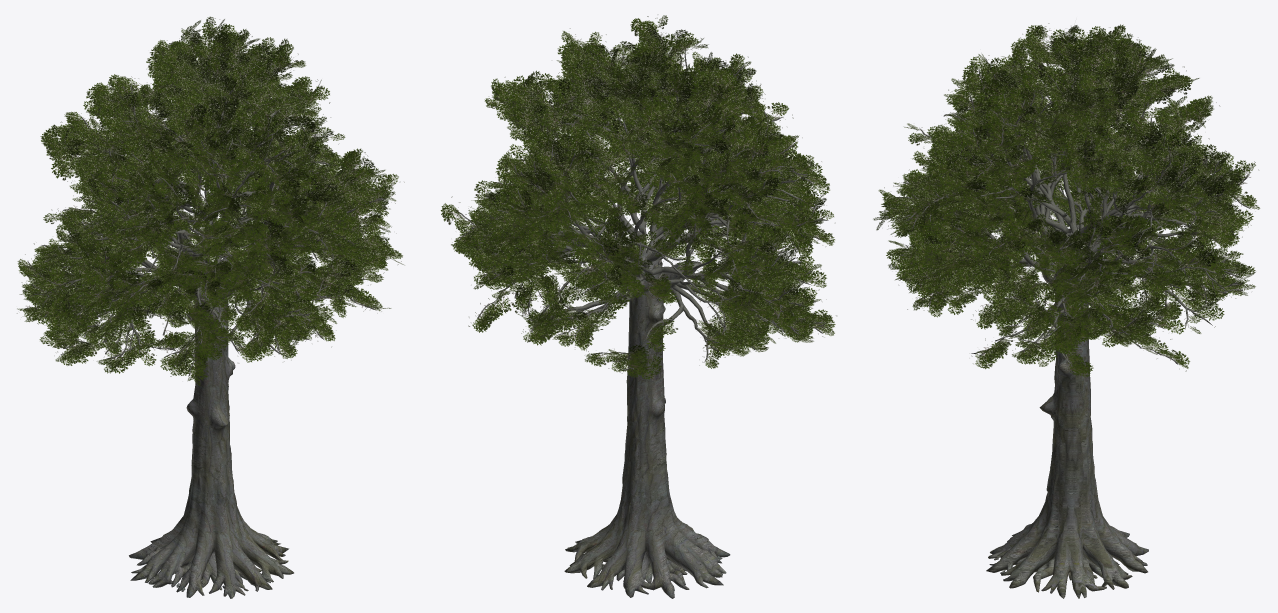
Rendered from OakTree.glb.
3 renders of one model, left to right at view 1: azimuth 30°, elevation 25°; view 2: azimuth 150°, elevation 25°; view 3: azimuth 270°, elevation 25°, orthographic. The views are drawn at different scales.
Visible parts, largest first — view 1: Oak Leaf_Leaf _02_0, geometry_0; view 2: Oak Leaf_Leaf _02_0, geometry_0; view 3: Oak Leaf_Leaf _02_0, geometry_0.
Part boxes in pixels (<box>): Oak Leaf_Leaf _02_0: <box>17,16,404,385</box>; geometry_0: <box>24,73,386,598</box>; Oak Leaf_Leaf _02_0: <box>440,15,836,379</box>; geometry_0: <box>457,48,828,598</box>; Oak Leaf_Leaf _02_0: <box>873,23,1259,377</box>; geometry_0: <box>886,58,1250,598</box>.
Size of the model in its own units: 0.7883 by 1.15 by 0.7554.
Materials: 2 (2 with a texture image).
